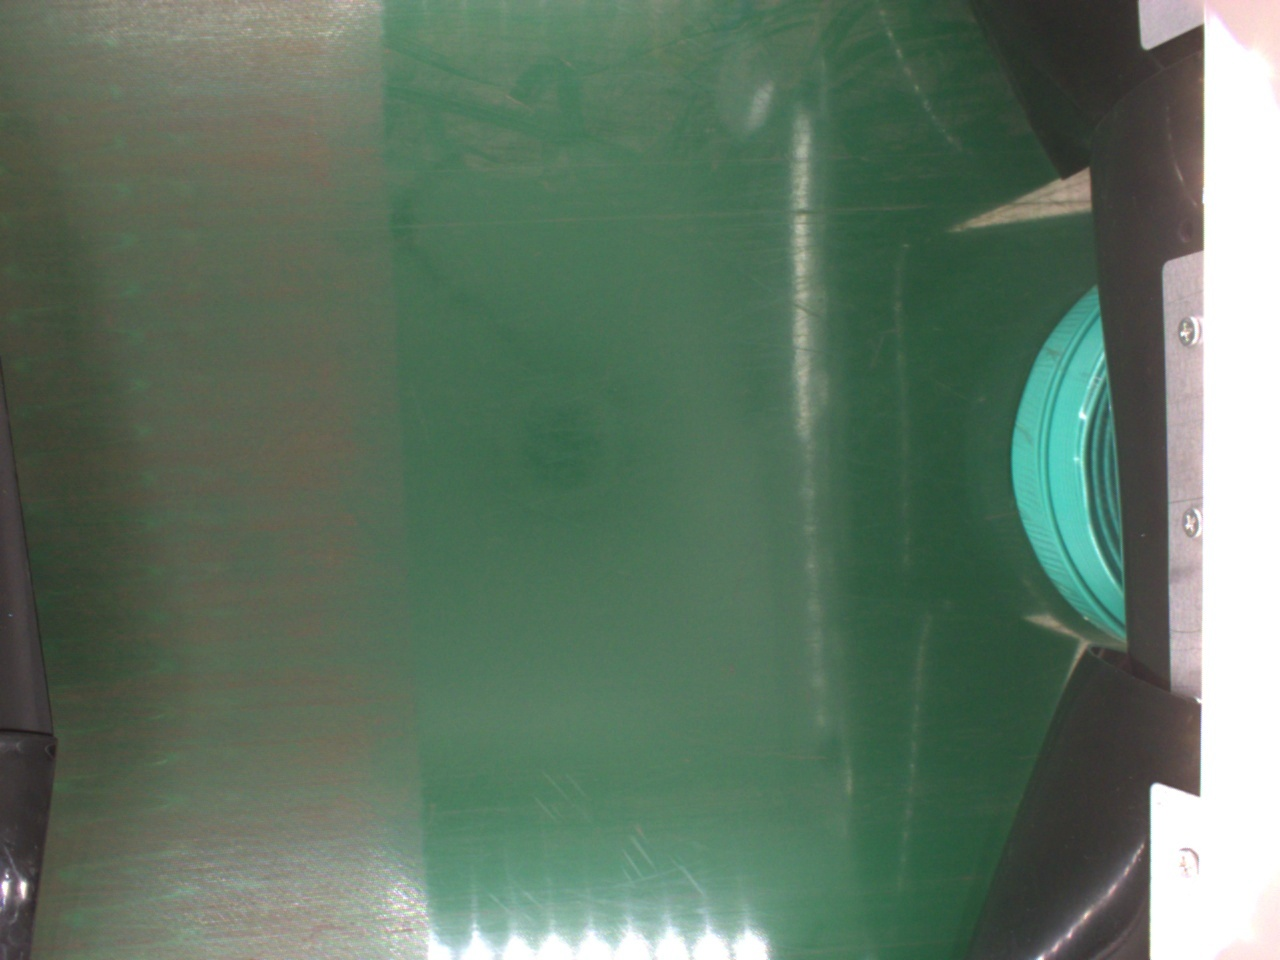green: (1010, 285, 1138, 646)
